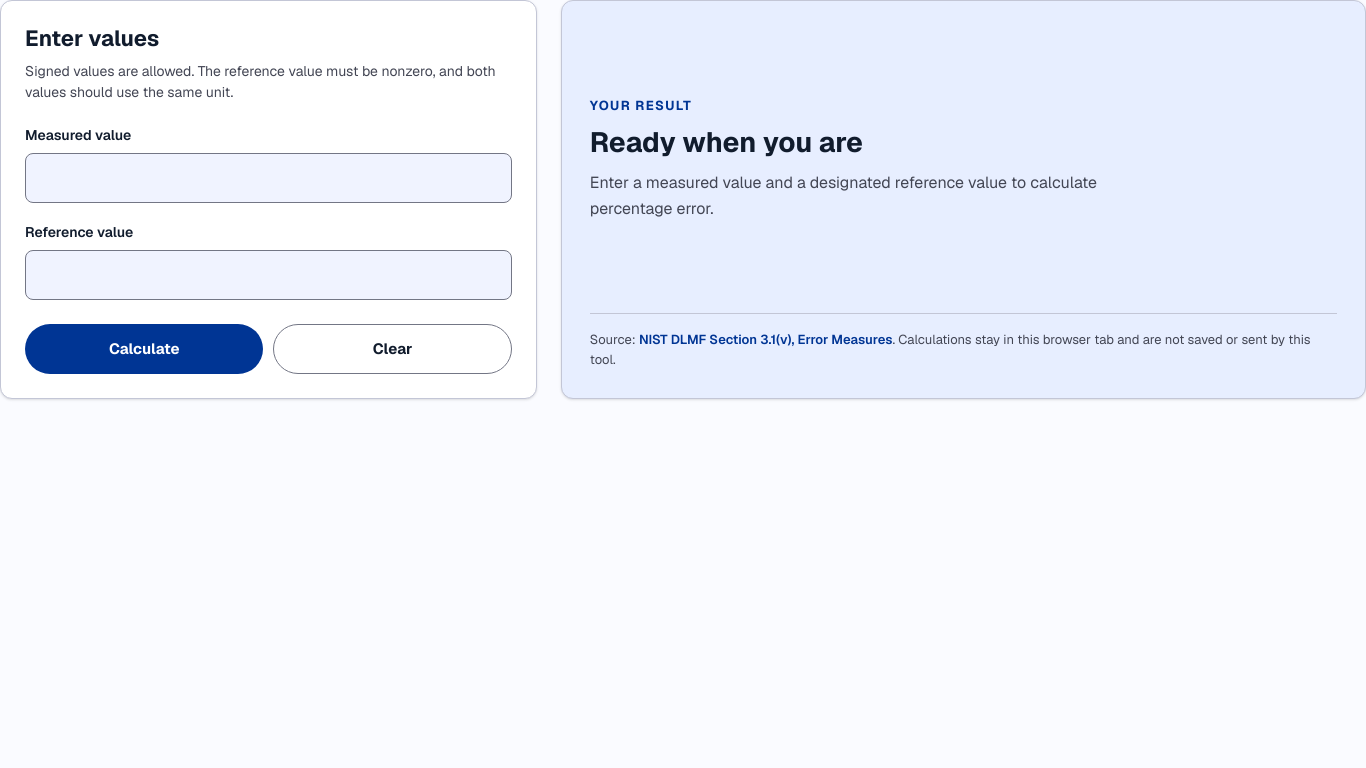
percentage family shared workspace › submits error with Enter, clears stale results on edit, and resets
Type "95" into the number field labelled "Measured value" at x=268, y=178, box [25,153,512,203]
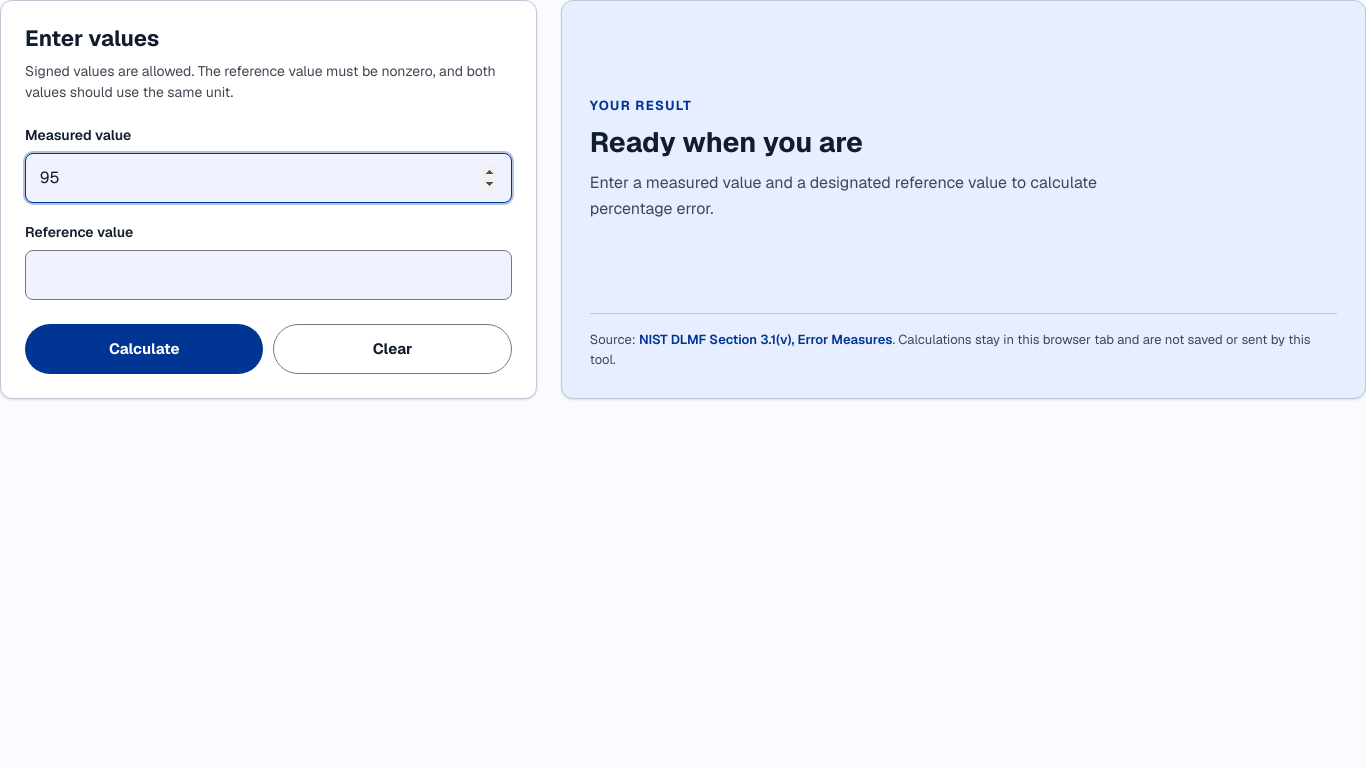
Type "100" into the number field labelled "Reference value" at x=268, y=275, box [25,250,512,300]
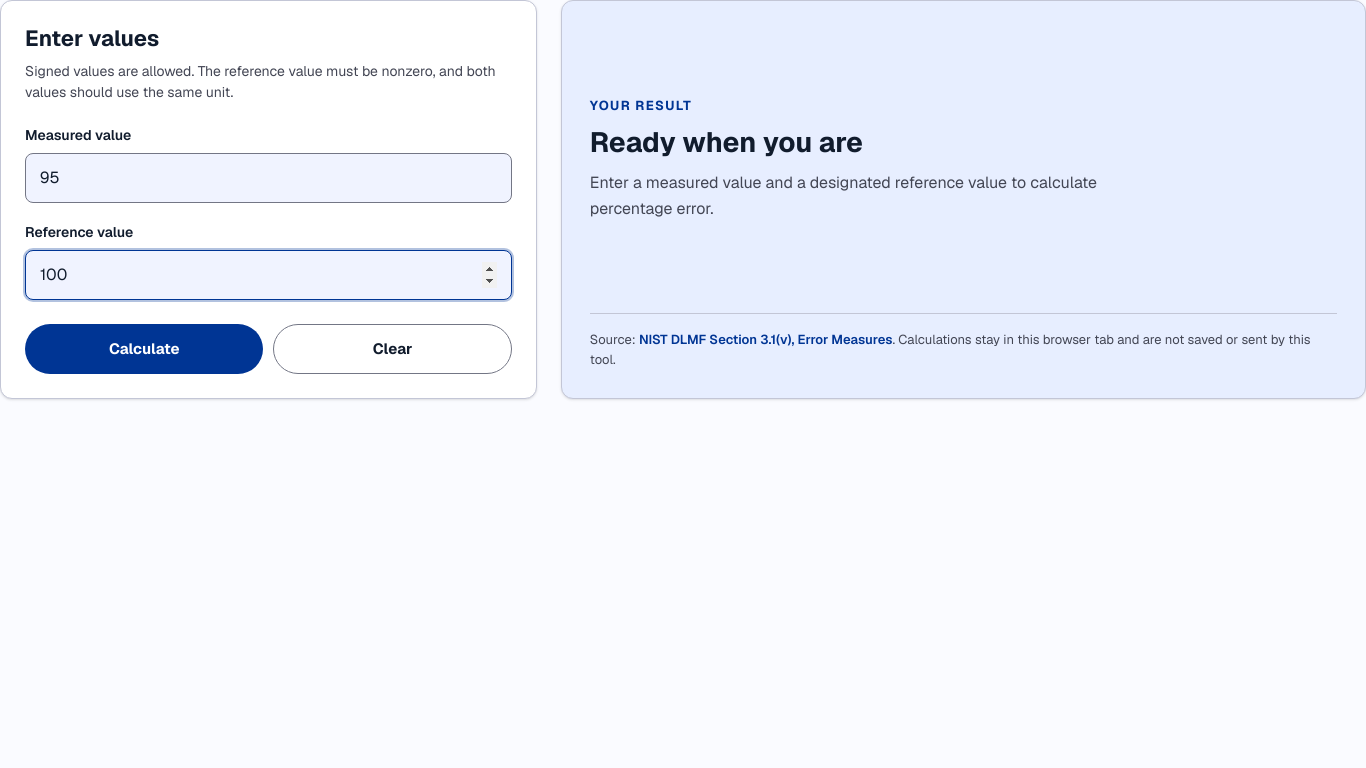
Press Enter
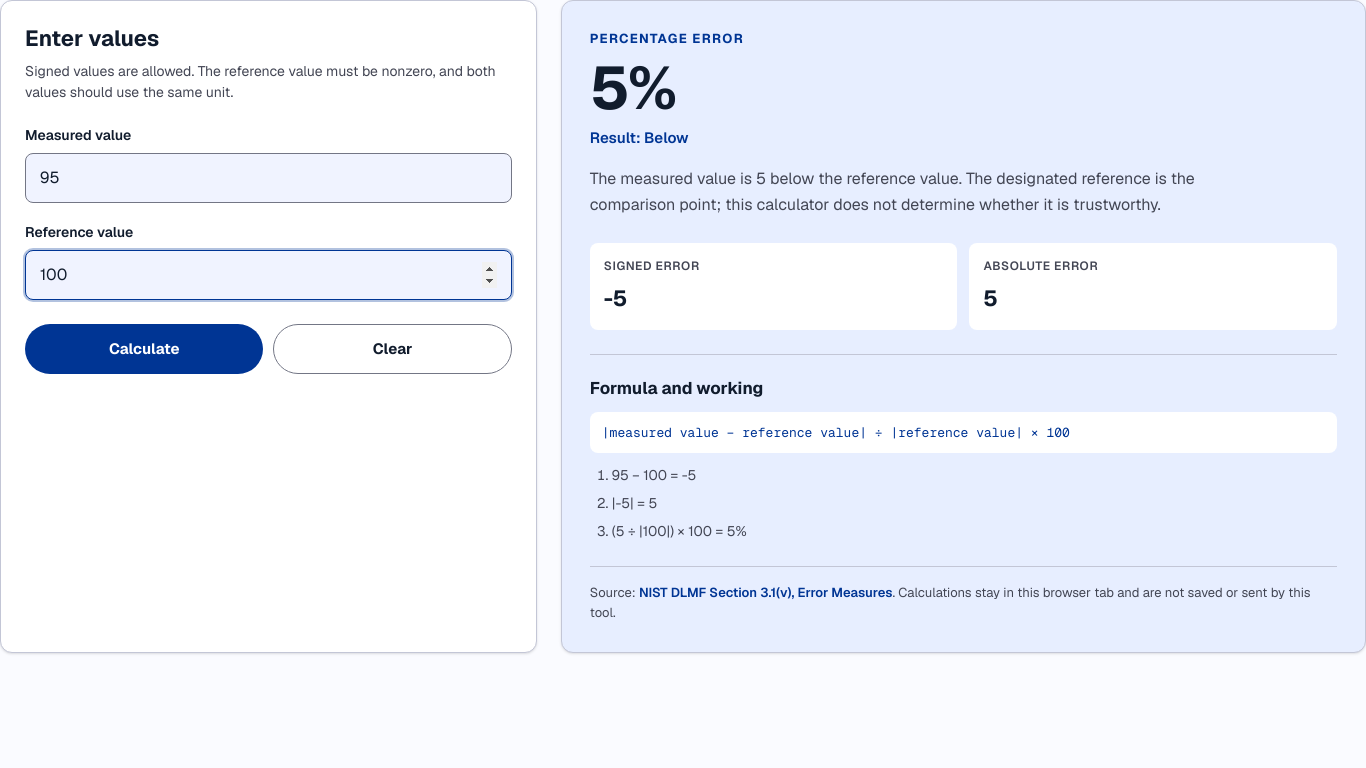
Check: the text "Source:" is shown, box [590,584,639,601]
Check: the heading "Ready when you are" is gone
Type "0" into the number field labelled "Reference value" at x=268, y=275, box [25,250,512,300]
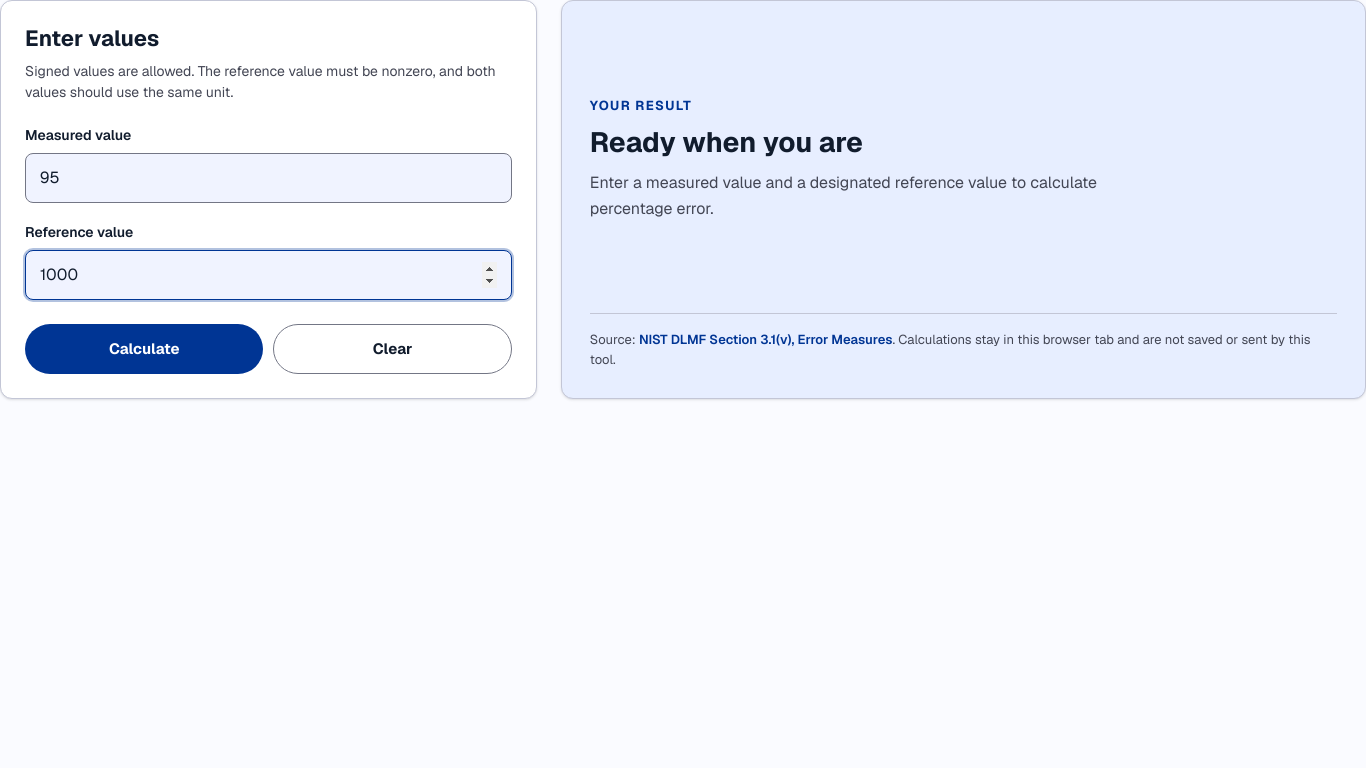
Check: the heading "Ready when you are" is shown, box [590,124,863,160]
Click the button "Clear" at x=393, y=349, box [273,324,512,374]
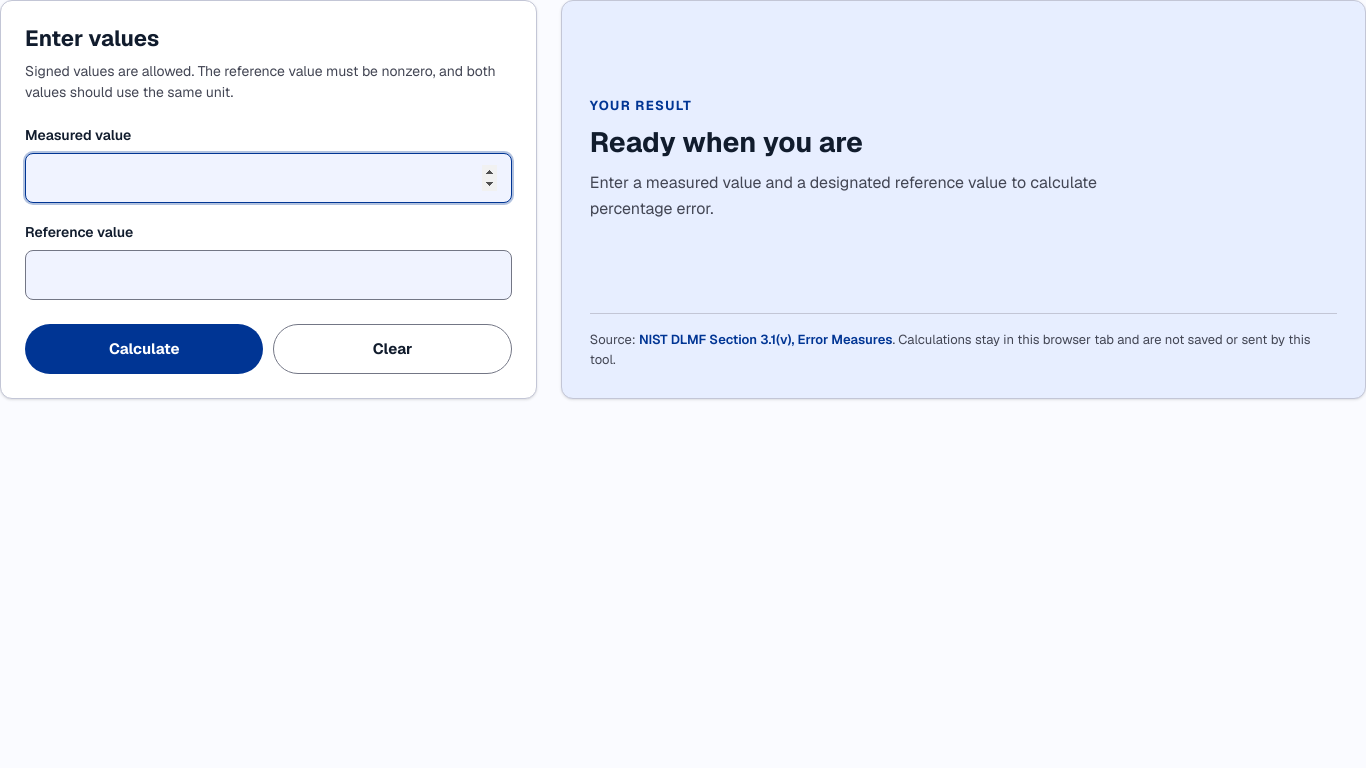
Check: the number field labelled "Measured value" is not empty, box [25,153,512,203]
Check: the number field labelled "Reference value" is not empty, box [25,250,512,300]
